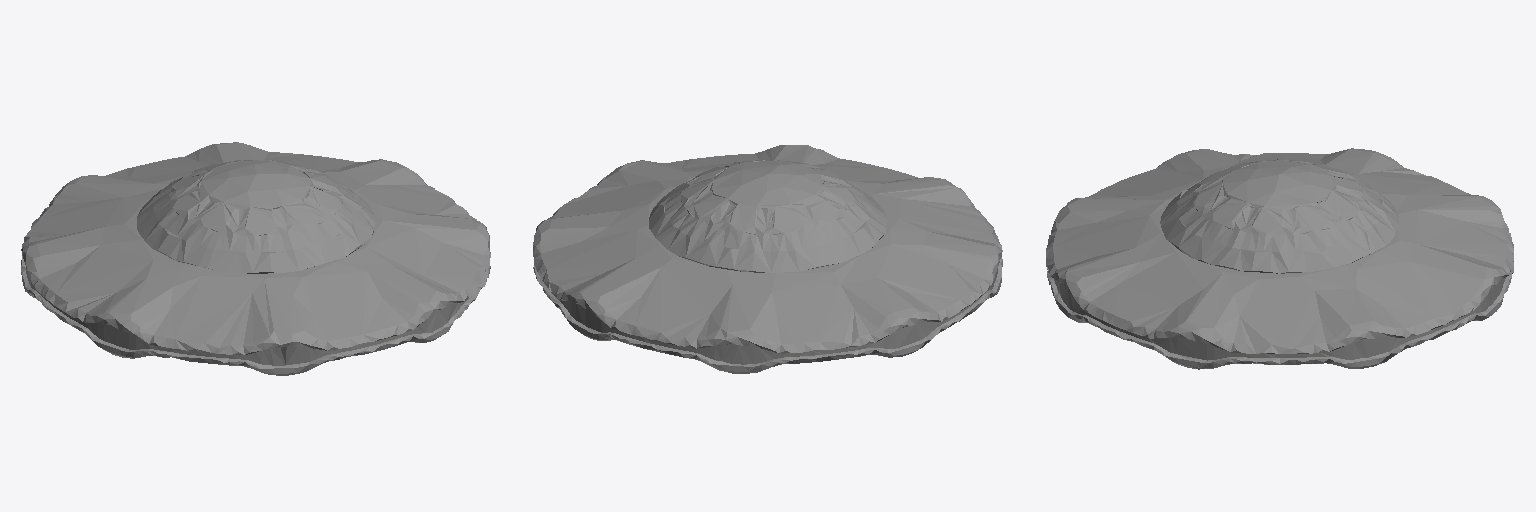
Rendered from frame_018.obj.
3 renders of one model, left to right at view 1: azimuth 30°, elevation 25°; view 2: azimuth 150°, elevation 25°; view 3: azimuth 270°, elevation 25°, orthographic.
Visible parts, largest first — view 1: 13884_UFO_Saucer_v1_l2; view 2: 13884_UFO_Saucer_v1_l2; view 3: 13884_UFO_Saucer_v1_l2.
Part boxes in pixels (x1,y1,x2,y2): 13884_UFO_Saucer_v1_l2: (21, 142, 490, 375); 13884_UFO_Saucer_v1_l2: (533, 145, 1002, 373); 13884_UFO_Saucer_v1_l2: (1046, 148, 1513, 369).
Size of the model in its own units: 12.69 by 4.88 by 12.7.